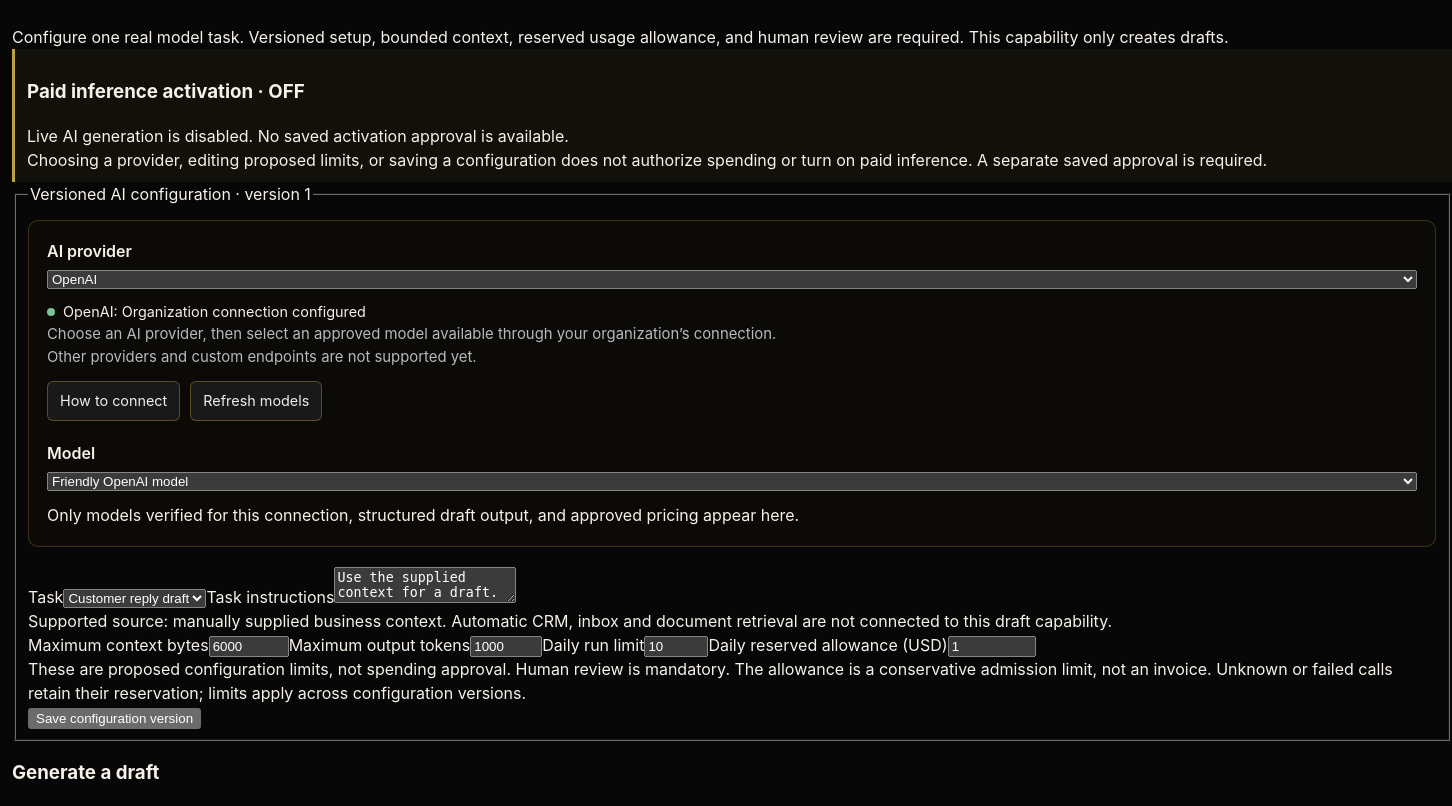
Test case: discovery failure clears choices, does not expose raw errors, and can recover with refresh
(page scrolled)
Expected: the text "Versioned AI configuration · version 1" is shown, left=28, top=182, right=313, bottom=206
Click the button "Refresh models".
click(256, 401)  # box left=190, top=381, right=322, bottom=421
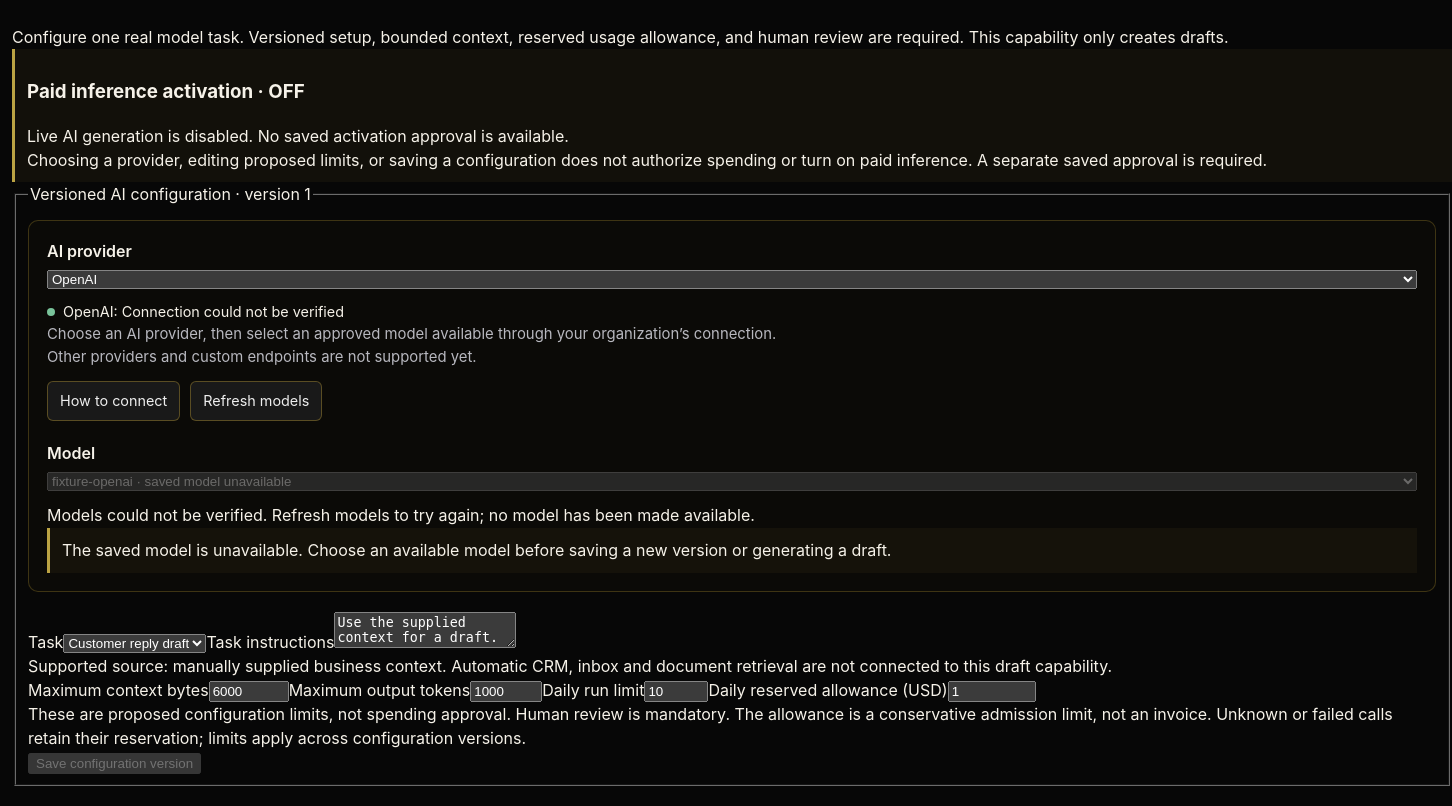
Expected: the text "Models could not be verified" is shown, left=47, top=505, right=755, bottom=525
Expected: the button "Save configuration version" is disabled, left=28, top=752, right=201, bottom=774
Click the button "Refresh models".
click(256, 401)  # box left=190, top=381, right=322, bottom=421
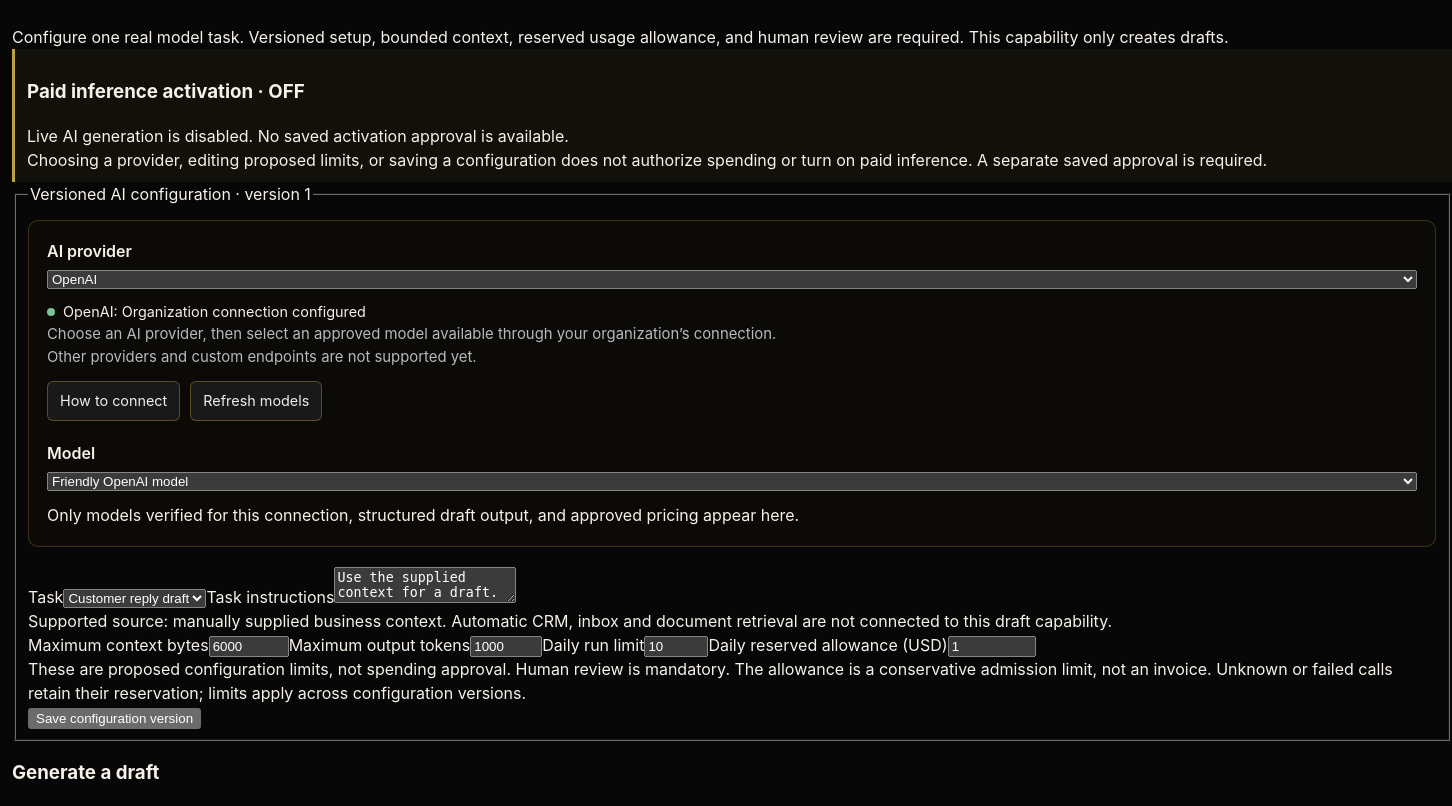
Expected: the button "Save configuration version" is enabled, left=28, top=708, right=201, bottom=729
